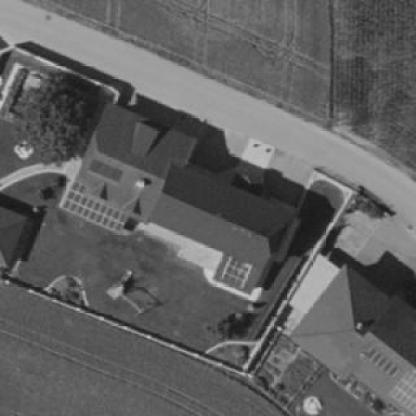solar-pv-panel: (62, 182, 129, 232), (390, 372, 416, 415), (365, 347, 399, 377), (222, 257, 252, 287), (89, 159, 123, 183)
